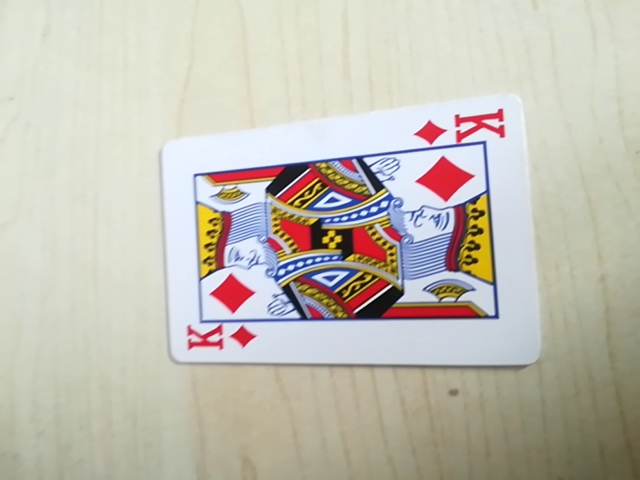fk k: (419, 104, 511, 148), (181, 321, 257, 360)
